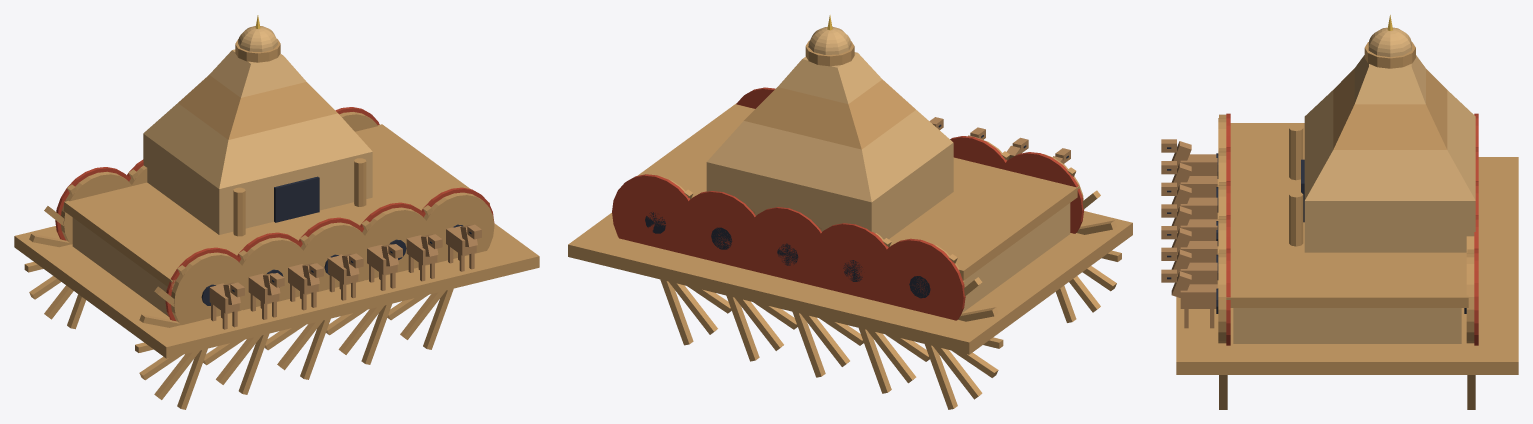
The model's file is konark-sun-temple.glb.
The picture shows the model from 3 angles, left to right: view 1: azimuth 30°, elevation 25°; view 2: azimuth 150°, elevation 25°; view 3: azimuth 270°, elevation 25°; orthographic projection. The views are drawn at different scales.
Visible parts, largest first — view 1: konark-sun-temple; view 2: konark-sun-temple; view 3: konark-sun-temple.
Part boxes in pixels (x1,y1,x2,y2): konark-sun-temple: (14, 15, 539, 409); konark-sun-temple: (568, 15, 1132, 409); konark-sun-temple: (1161, 15, 1518, 409).
Size of the model in its own units: 5.25 by 4 by 3.78.
